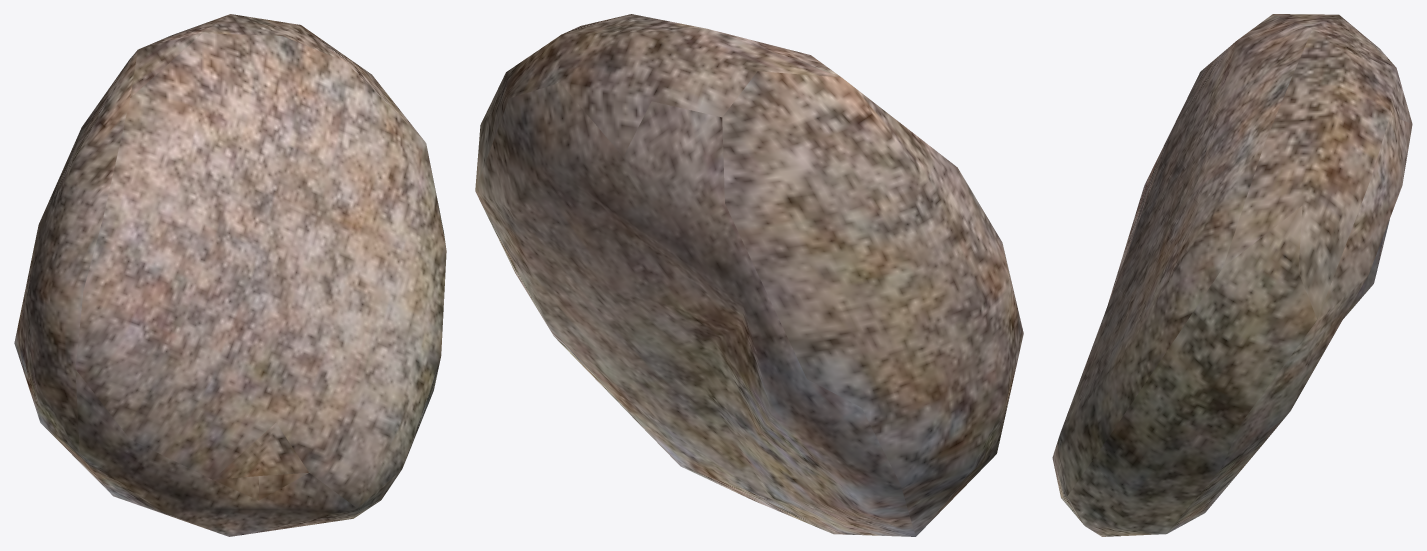
3 views of the same model, side by side, from view 1: azimuth 30°, elevation 25°; view 2: azimuth 150°, elevation 25°; view 3: azimuth 270°, elevation 25° (orthographic). The views are drawn at different scales.
Visible parts, largest first — view 1: rock041_lod4; view 2: rock041_lod4; view 3: rock041_lod4.
Part boxes in pixels (x1=…): rock041_lod4: x1=14, y1=14, x2=446, y2=536; rock041_lod4: x1=475, y1=14, x2=1023, y2=536; rock041_lod4: x1=1052, y1=14, x2=1412, y2=536.
Size of the model in its own units: 1 by 1.05 by 0.7045.
1 material, 1 textured.
